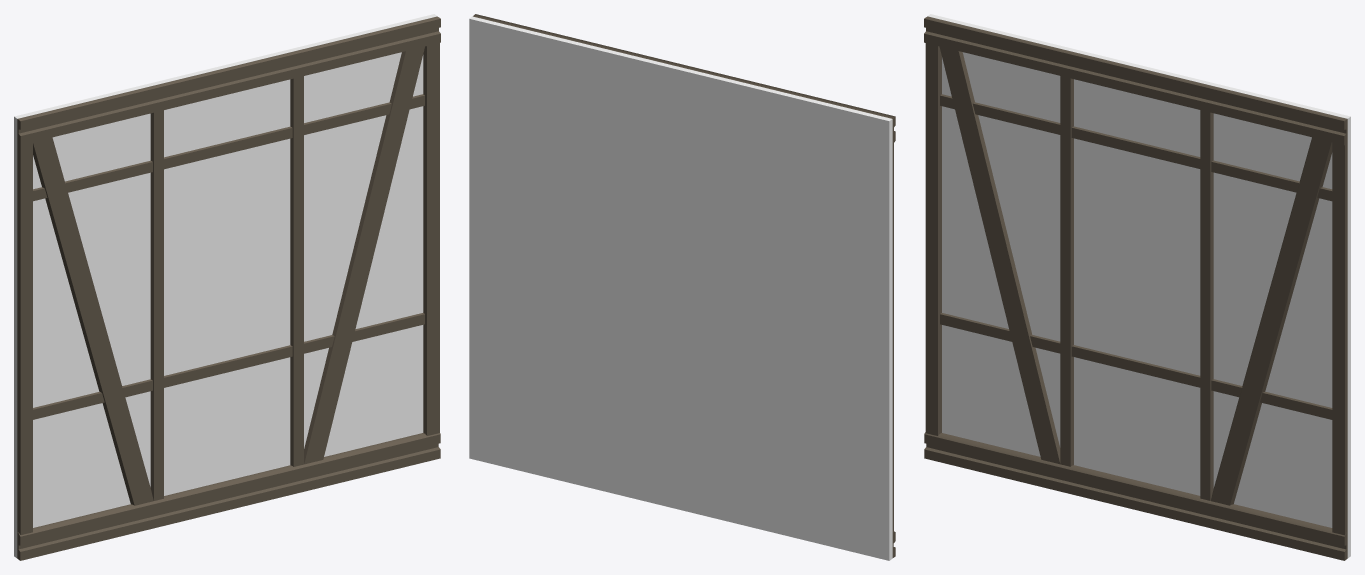
The model's file is WALL_02_1.fbx.
The picture shows the model from 3 angles, left to right: view 1: azimuth 30°, elevation 25°; view 2: azimuth 150°, elevation 25°; view 3: azimuth 330°, elevation 25°; orthographic projection.
Parts seen in each view (by area): view 1: WALL_02_1; view 2: WALL_02_1; view 3: WALL_02_1.
Boxes of the visible parts, x1,y1,x2,y2 form: WALL_02_1: (14,14,440,560); WALL_02_1: (469,14,895,560); WALL_02_1: (924,14,1350,560).
Bounding box in the file's own units: 300 × 300 × 8.
